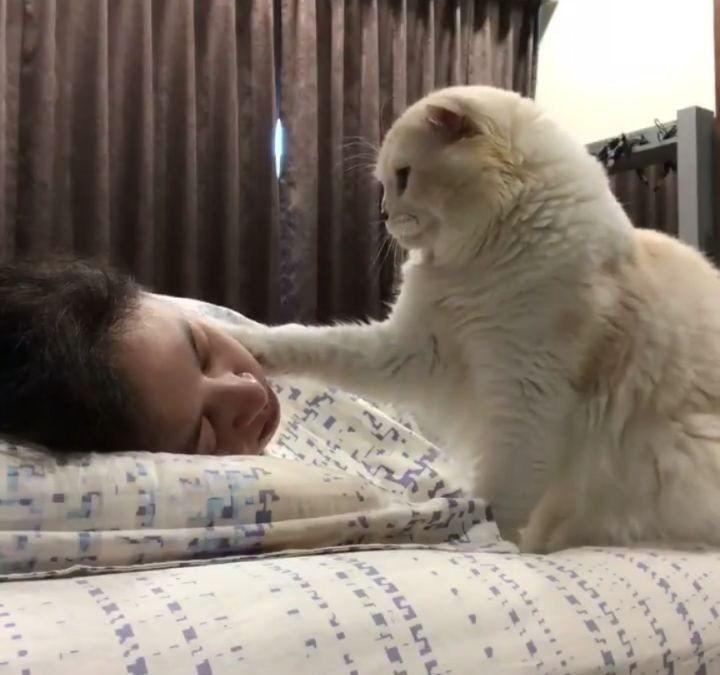kedo: (330, 80, 720, 553)
